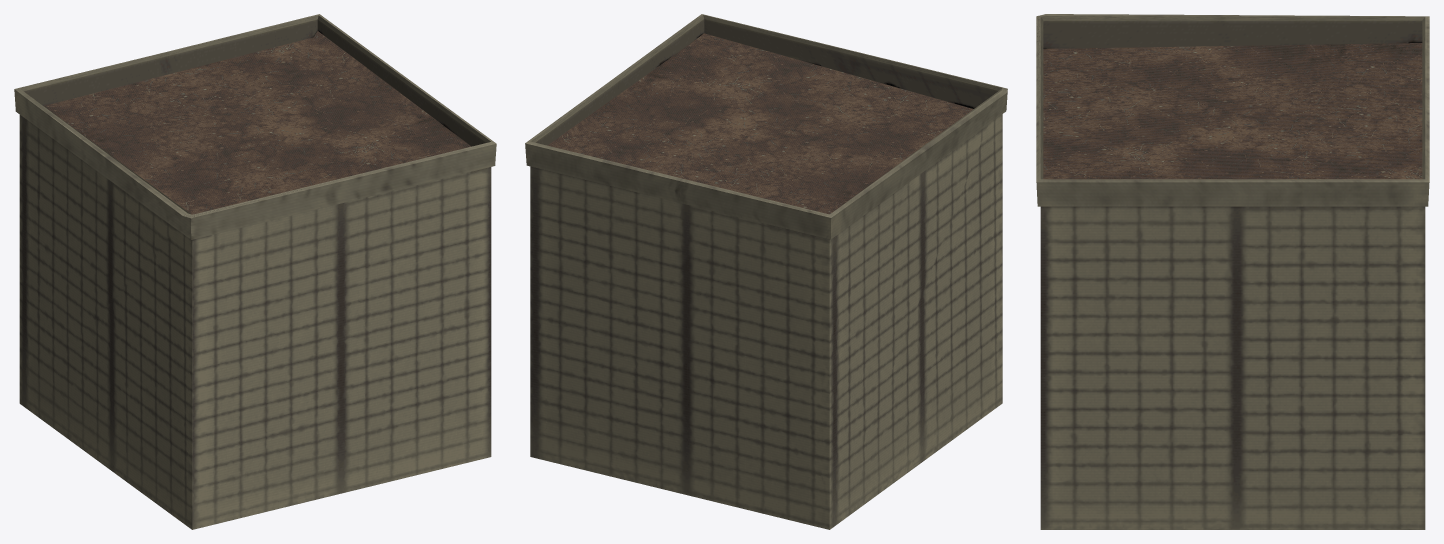
File: sand_box_lod.fbx
3 views of the same model, side by side, from view 1: azimuth 30°, elevation 25°; view 2: azimuth 150°, elevation 25°; view 3: azimuth 270°, elevation 25° (orthographic). The views are drawn at different scales.
Visible parts, largest first — view 1: sand_box; view 2: sand_box; view 3: sand_box.
Boxes of the visible parts, left/top/right/bottom form: sand_box: left=14, top=14, right=496, bottom=529; sand_box: left=525, top=14, right=1007, bottom=529; sand_box: left=1036, top=14, right=1429, bottom=529.
Bounding box in the file's own units: 93.59 × 91.09 × 92.49.
